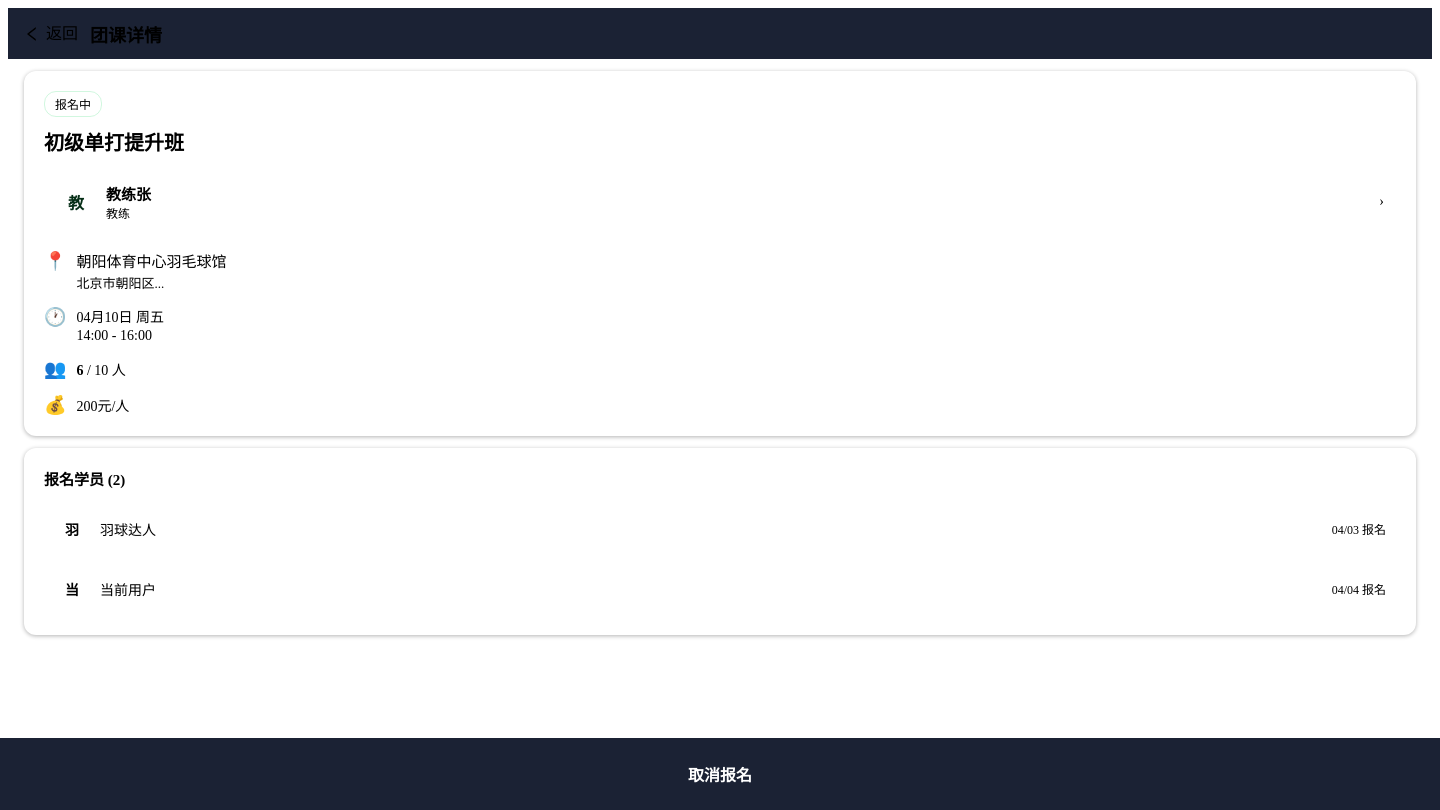
Test: GroupClassDetailPage › should show confirm dialog when cancel enrollment button is clicked
Click the button "取消报名" at (720, 774), box [16,750,1424,798]
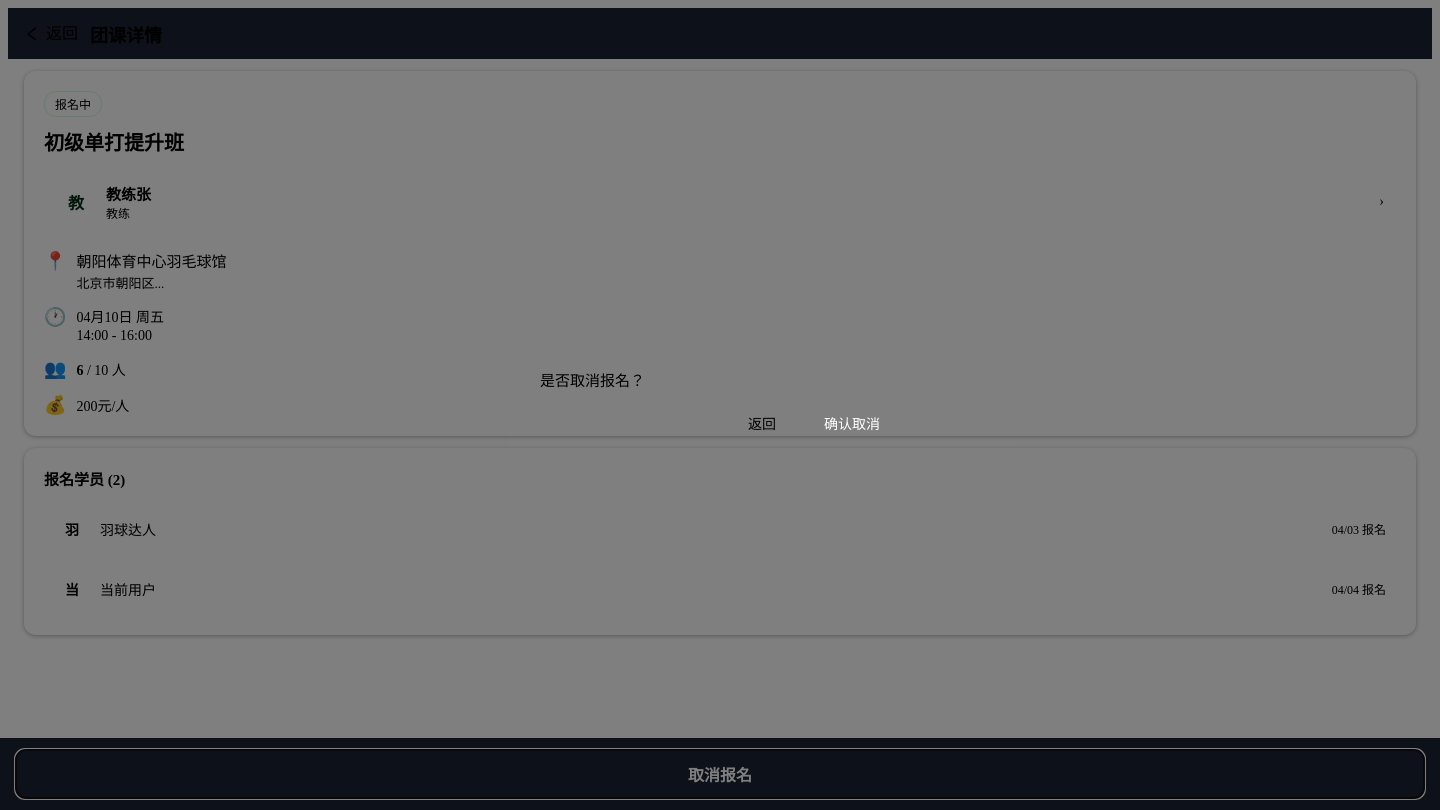
Expected: the button "确认取消" is shown, [804,405,900,441]
